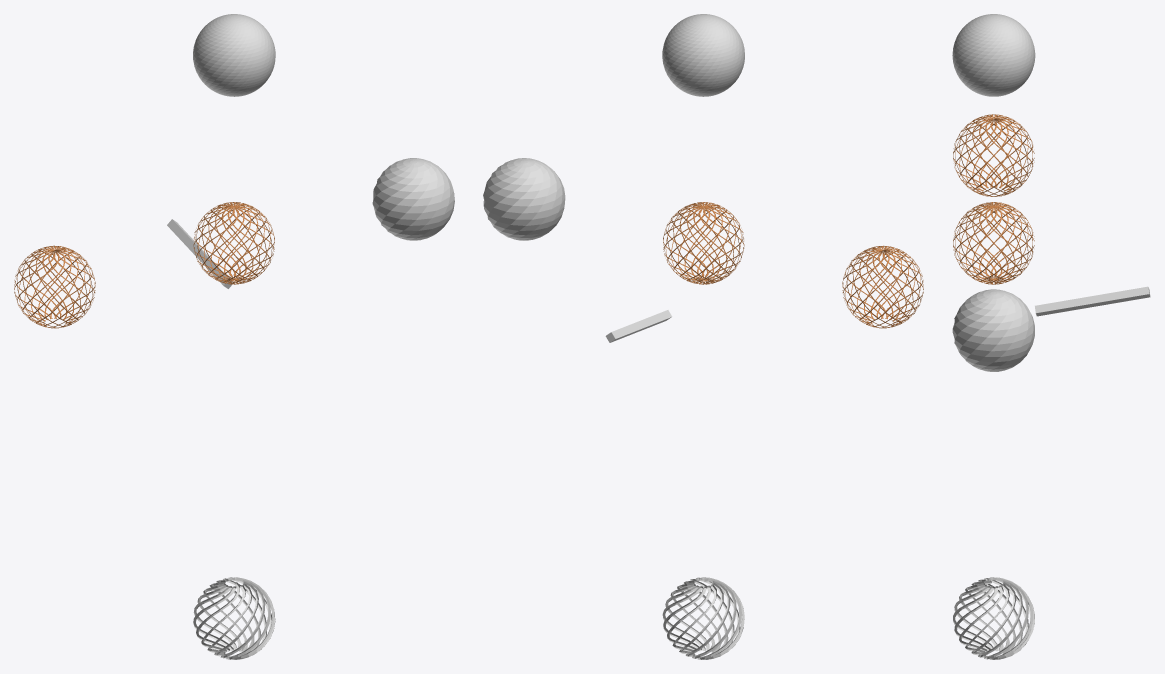
The model's file is golden spiral cage send.glb.
3 views of the same model, side by side, from view 1: azimuth 30°, elevation 25°; view 2: azimuth 150°, elevation 25°; view 3: azimuth 270°, elevation 25° (orthographic).
Visible parts, largest first — view 1: Sphere, Sphere.001, Sphere.003, Sphere.004, Sphere.002, Sphere.005, Sphere.006, Cube.008; view 2: Sphere, Sphere.001, Sphere.003, Sphere.002, Sphere.004, Sphere.006, Sphere.005, Cube.008; view 3: Sphere, Sphere.001, Sphere.003, Sphere.004, Sphere.002, Sphere.005, Sphere.006, Cube.008.
Part boxes in pixels (left/top/right/bottom): Sphere: left=193, top=14, right=275, bottom=96; Sphere.001: left=372, top=158, right=454, bottom=240; Sphere.003: left=193, top=577, right=275, bottom=659; Sphere.004: left=193, top=202, right=274, bottom=284; Sphere.002: left=193, top=202, right=274, bottom=284; Sphere.005: left=14, top=245, right=95, bottom=328; Sphere.006: left=14, top=246, right=95, bottom=328; Cube.008: left=167, top=219, right=232, bottom=288; Sphere: left=662, top=14, right=744, bottom=96; Sphere.001: left=483, top=158, right=565, bottom=240; Sphere.003: left=662, top=577, right=744, bottom=659; Sphere.002: left=663, top=202, right=744, bottom=284; Sphere.004: left=663, top=202, right=744, bottom=284; Sphere.006: left=842, top=245, right=923, bottom=328; Sphere.005: left=842, top=246, right=923, bottom=328; Cube.008: left=605, top=310, right=672, bottom=342; Sphere: left=952, top=14, right=1035, bottom=96; Sphere.001: left=952, top=289, right=1034, bottom=371; Sphere.003: left=953, top=577, right=1034, bottom=659; Sphere.004: left=953, top=202, right=1034, bottom=284; Sphere.002: left=953, top=202, right=1034, bottom=284; Sphere.005: left=953, top=114, right=1034, bottom=196; Sphere.006: left=953, top=114, right=1034, bottom=196; Cube.008: left=1035, top=286, right=1150, bottom=316.
Size of the model in its own units: 11.98 by 16.97 by 4.78.
